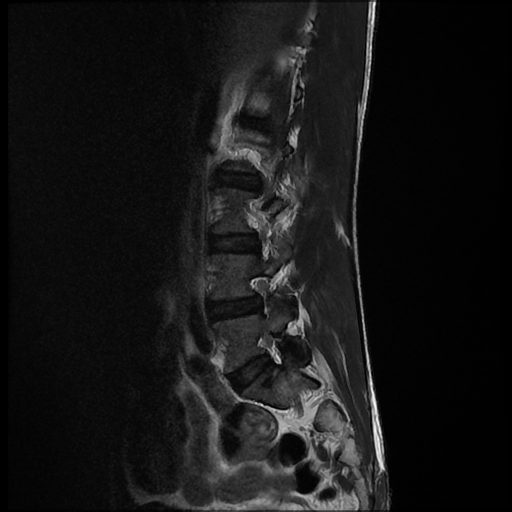RFS0: (246, 325, 299, 376)
RFS1: (241, 268, 290, 325)
